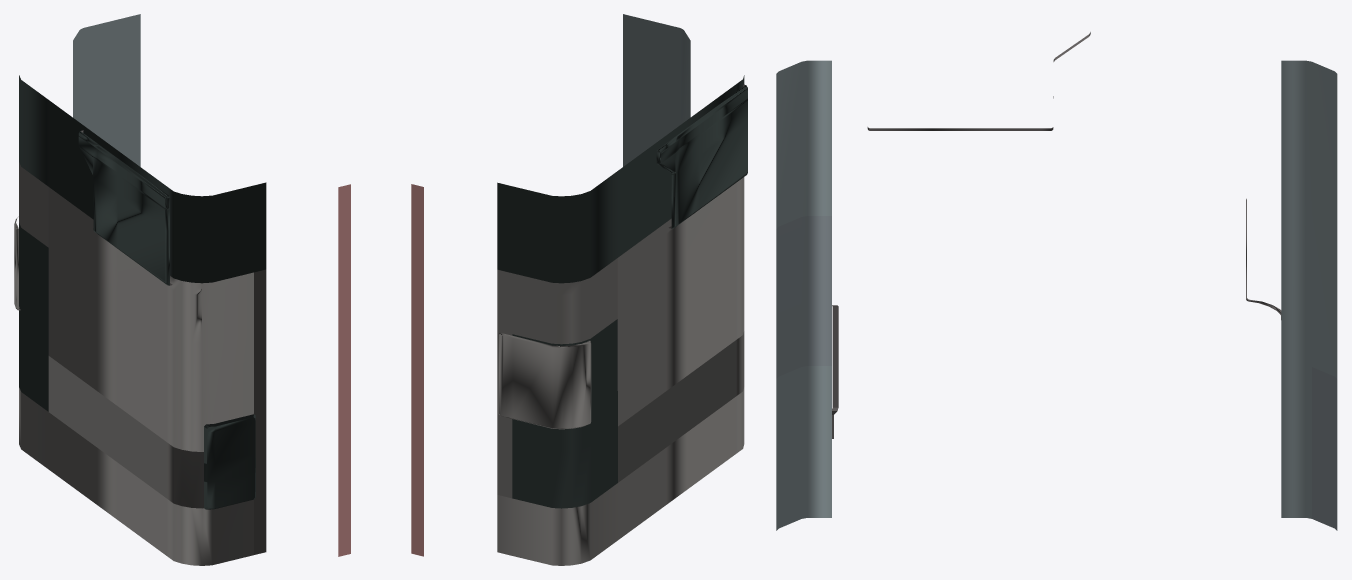
Rendered from addon_cover_a.glb.
3 views of the same model, side by side, from view 1: azimuth 30°, elevation 25°; view 2: azimuth 150°, elevation 25°; view 3: azimuth 270°, elevation 25° (orthographic). The views are drawn at different scales.
Size of the model in its own units: 16.66 by 36 by 40.1.
